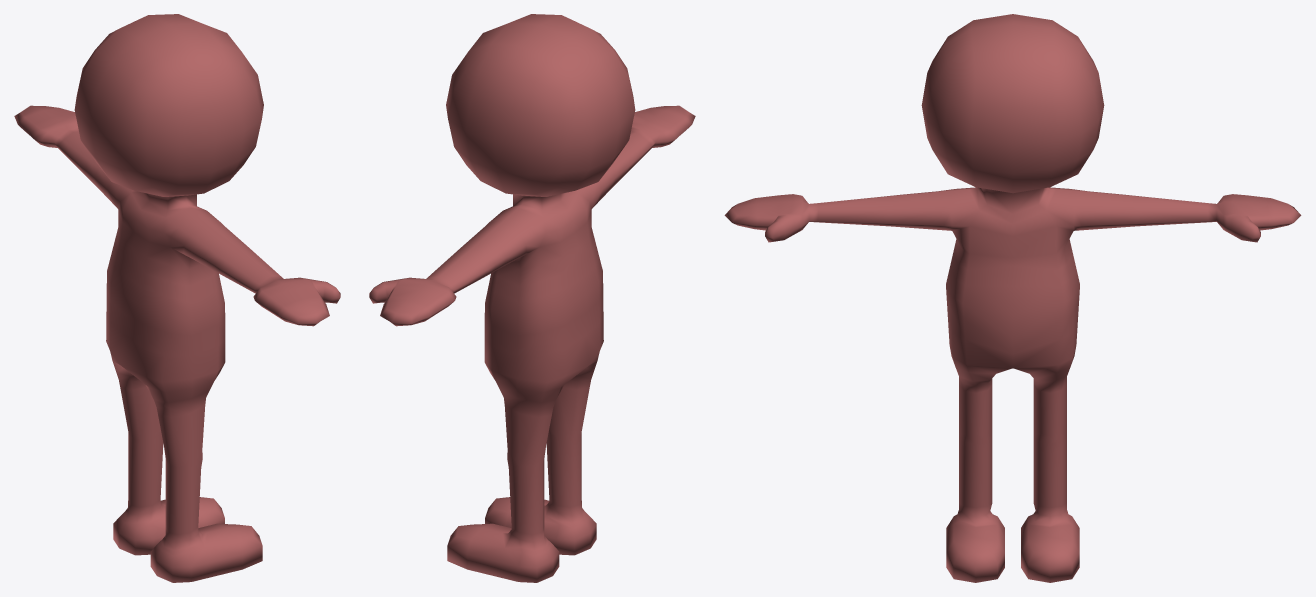
The model's file is enemy_red.fbx.
The picture shows the model from 3 angles, left to right: view 1: azimuth 30°, elevation 25°; view 2: azimuth 150°, elevation 25°; view 3: azimuth 270°, elevation 25°; orthographic projection.
Visible parts, largest first — view 1: stickman_red; view 2: stickman_red; view 3: stickman_red.
Boxes of the visible parts, <box> form: stickman_red: <box>14,14,340,582</box>; stickman_red: <box>369,14,695,582</box>; stickman_red: <box>724,14,1301,582</box>.
Bounding box in the file's own units: 87.85 × 282 × 281.
